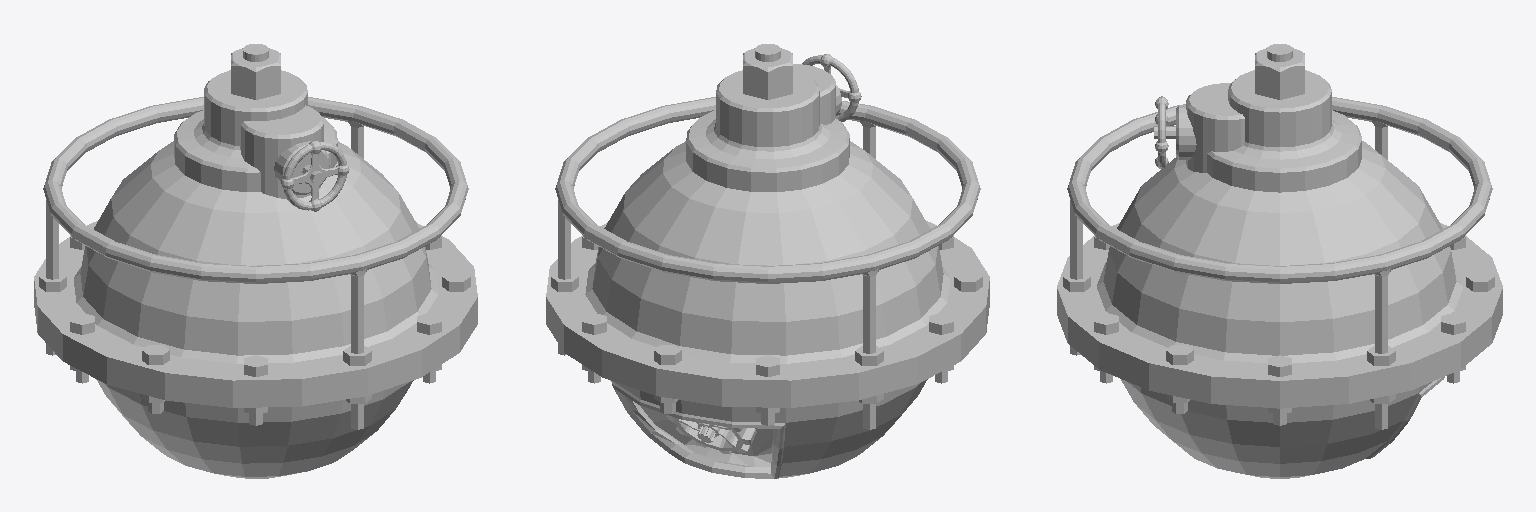
File: Bomb.obj
The picture shows the model from 3 angles: view 1: azimuth 30°, elevation 25°; view 2: azimuth 150°, elevation 25°; view 3: azimuth 270°, elevation 25°; orthographic projection.
Parts seen in each view (by area): view 1: SS_LP_Untitled.001; view 2: SS_LP_Untitled.001; view 3: SS_LP_Untitled.001.
Part boxes in pixels (x1,y1,x2,y2): SS_LP_Untitled.001: (34, 44, 477, 478); SS_LP_Untitled.001: (546, 44, 989, 478); SS_LP_Untitled.001: (1057, 44, 1502, 478).
Bounding box in the file's own units: 0.8246 × 0.8432 × 0.8246.